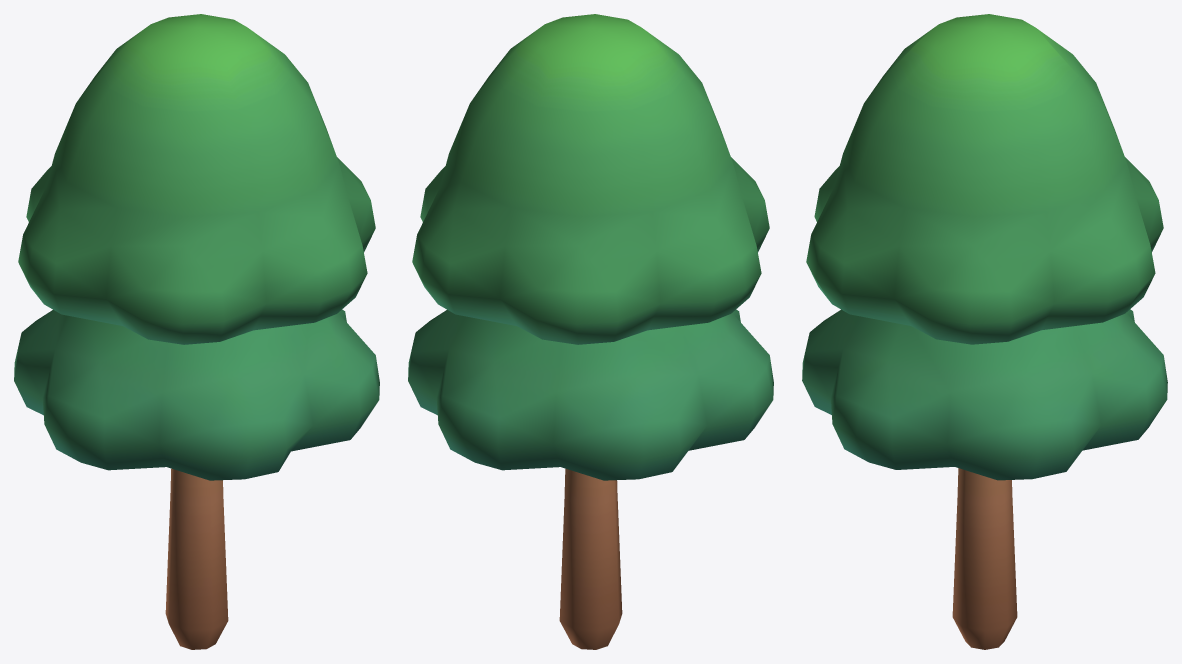
Rendered from prop_park_tree_large.glb.
3 views of the same model, side by side, from view 1: azimuth 30°, elevation 25°; view 2: azimuth 150°, elevation 25°; view 3: azimuth 270°, elevation 25° (orthographic).
Visible parts, largest first — view 1: tree_large; view 2: tree_large; view 3: tree_large.
Boxes of the visible parts, x1,y1,x2,y2 form: tree_large: (14,14,379,649); tree_large: (408,14,773,649); tree_large: (802,14,1167,649).
Size of the model in its own units: 2.75 by 4.98 by 2.69.
Materials: 1 (1 with a texture image).
